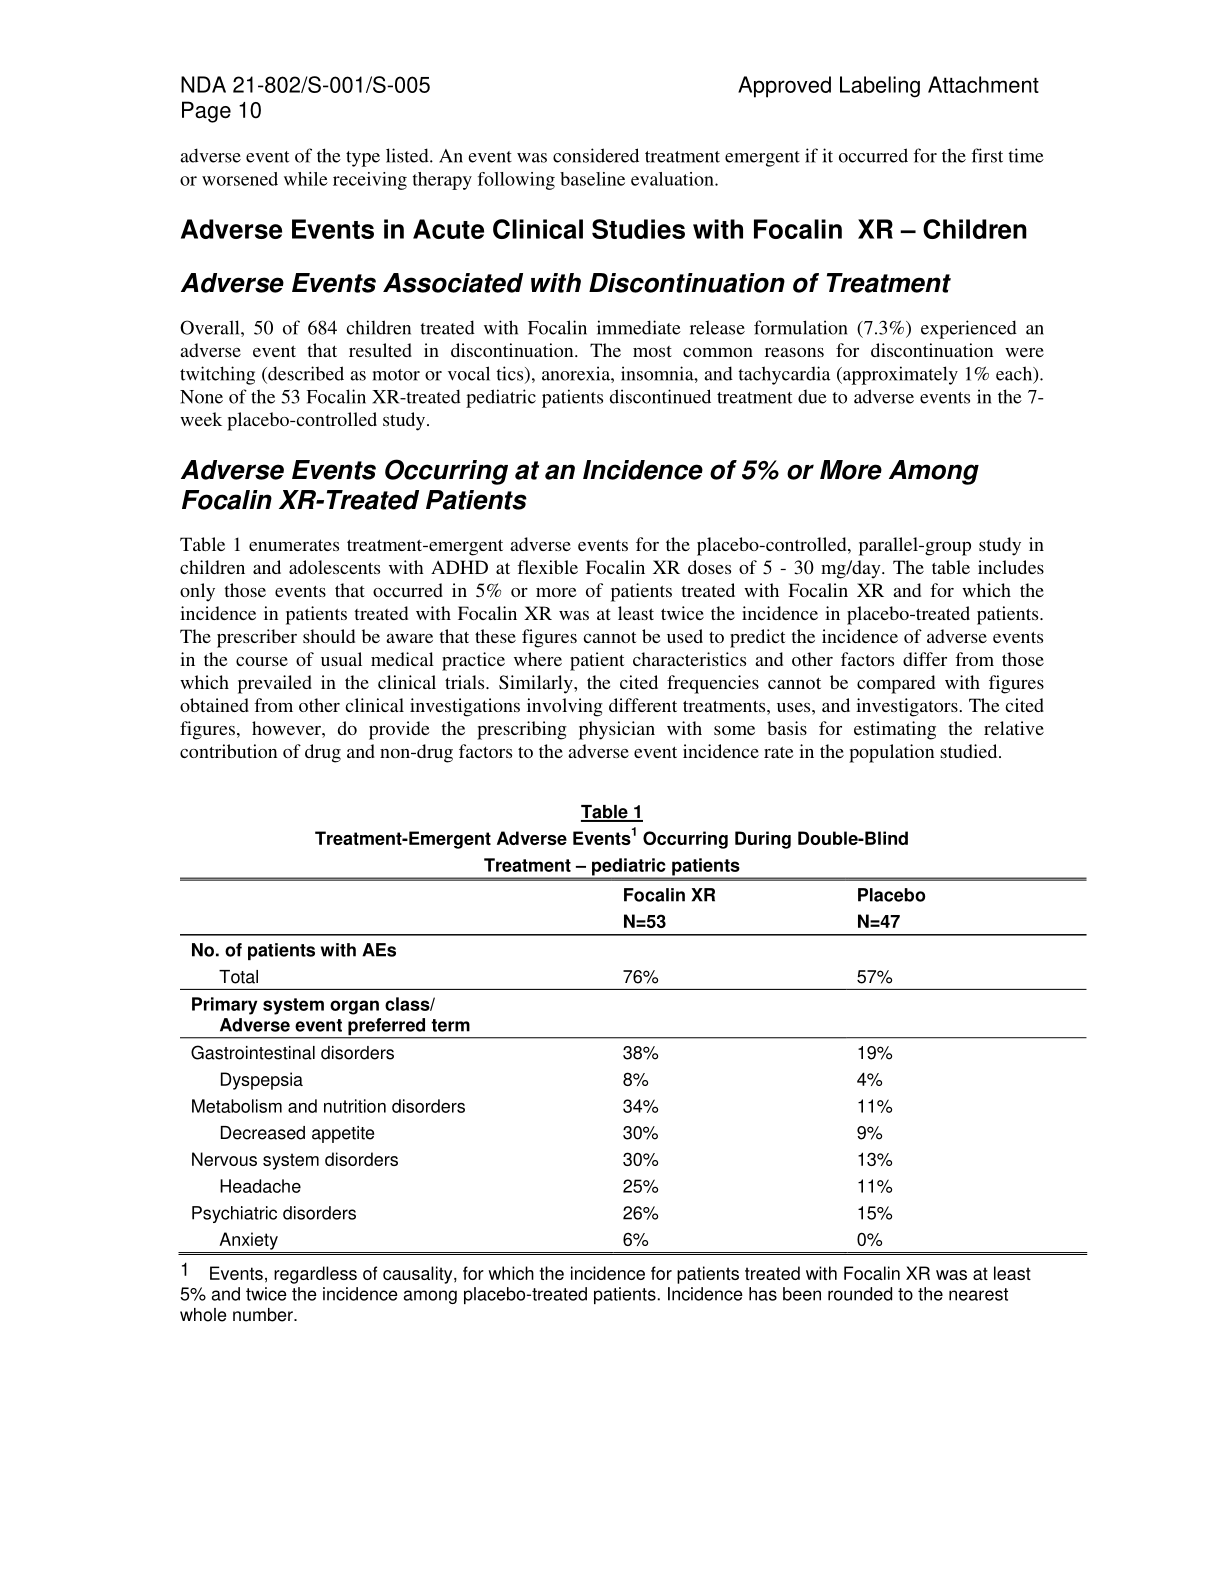partial_lined_merged_cells: (177, 878, 1088, 1257)
